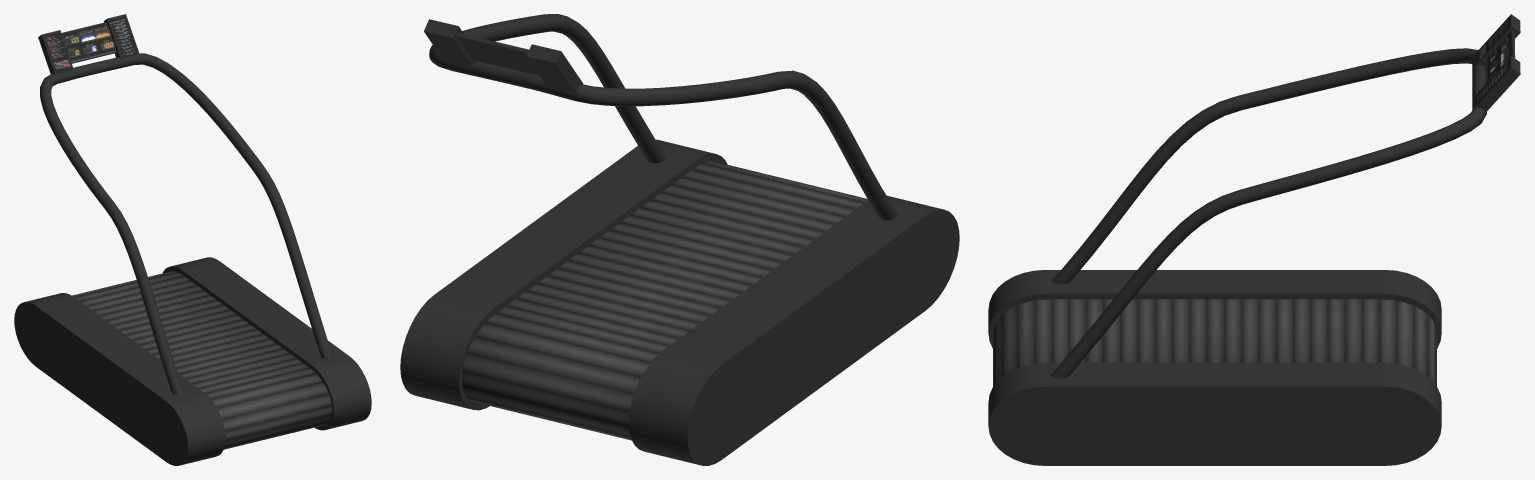
Rendered from traka - 65_2.glb.
3 views of the same model, side by side, from view 1: azimuth 30°, elevation 25°; view 2: azimuth 150°, elevation 25°; view 3: azimuth 270°, elevation 25° (orthographic). The views are drawn at different scales.
Parts seen in each view (by area): view 1: Circle.002, Circle.005, Circle.004, BézierCurve.002, BézierCurve.003; view 2: Circle.002, Circle.005, Circle.004, BézierCurve.003, BézierCurve.002; view 3: Circle.004, Circle.002, Circle.005, BézierCurve.002, BézierCurve.003.
Boxes of the visible parts, x1,y1,x2,y2 form: Circle.002: [72, 271, 332, 449]; Circle.005: [14, 293, 225, 465]; Circle.004: [162, 257, 371, 430]; BézierCurve.002: [82, 14, 332, 359]; BézierCurve.003: [38, 28, 183, 395]; Circle.002: [461, 161, 867, 440]; Circle.005: [629, 195, 959, 465]; Circle.004: [400, 139, 727, 410]; BézierCurve.003: [495, 42, 898, 220]; BézierCurve.002: [424, 14, 666, 163]; Circle.004: [988, 362, 1441, 465]; Circle.002: [993, 299, 1436, 386]; Circle.005: [988, 270, 1441, 348]; BézierCurve.002: [1050, 45, 1520, 378]; BézierCurve.003: [1051, 14, 1520, 284].
Bounding box in the file's own units: 0.9745 × 1.44 × 1.88.
3 materials, 2 textured.
